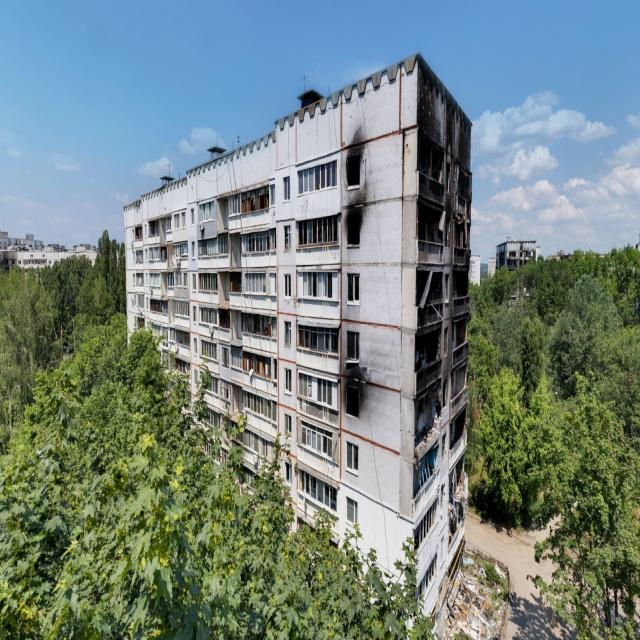broken_window: (299, 466, 336, 514), (297, 371, 338, 410), (413, 441, 439, 497), (412, 503, 437, 558), (419, 547, 437, 611), (450, 407, 466, 452), (347, 442, 358, 477)
building: (123, 55, 473, 627)
damage: (415, 126, 471, 447), (447, 449, 466, 551), (347, 210, 361, 250), (345, 384, 359, 419), (347, 152, 359, 187)
other: (9, 333, 464, 640)
